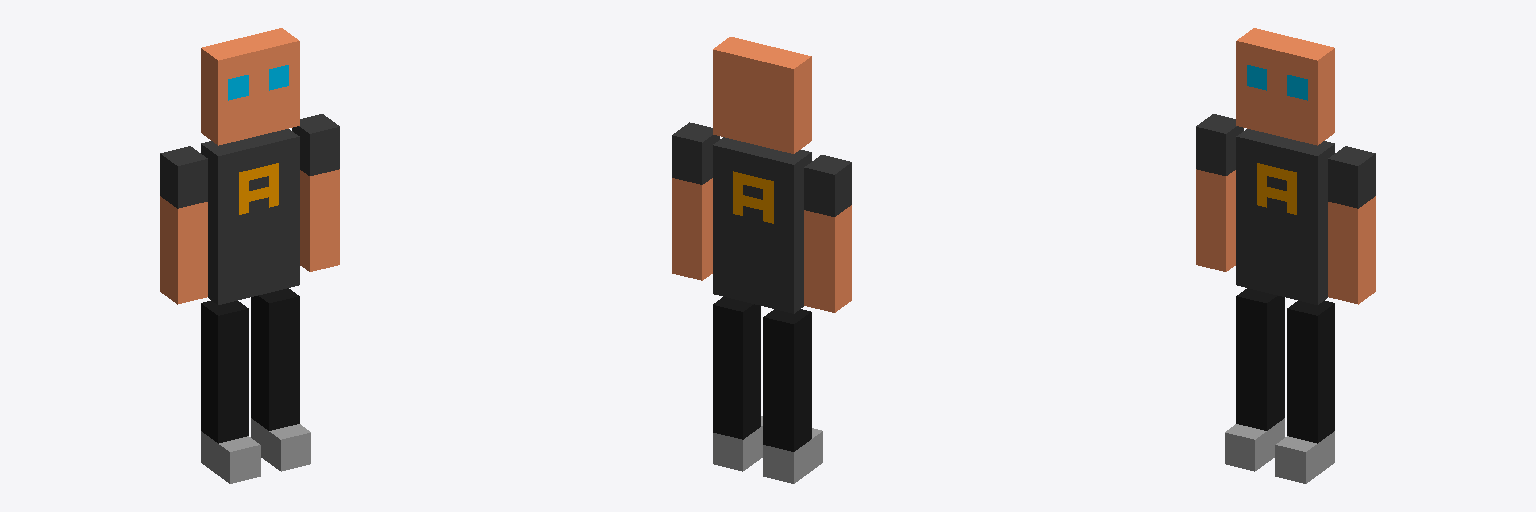
3 views of the same model, side by side, from view 1: azimuth 30°, elevation 25°; view 2: azimuth 150°, elevation 25°; view 3: azimuth 330°, elevation 25° (orthographic).
Bounding box in the file's own units: 16 × 39 × 5.
Materials: 1 (1 with a texture image).